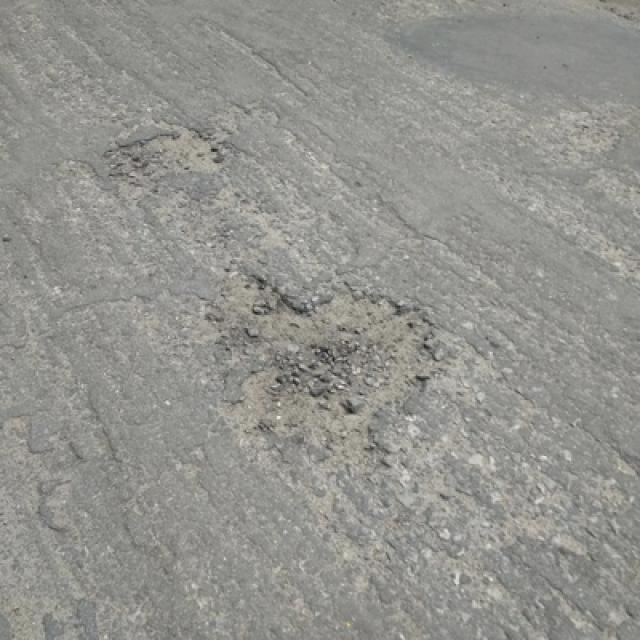objects: (204, 268, 429, 473)
